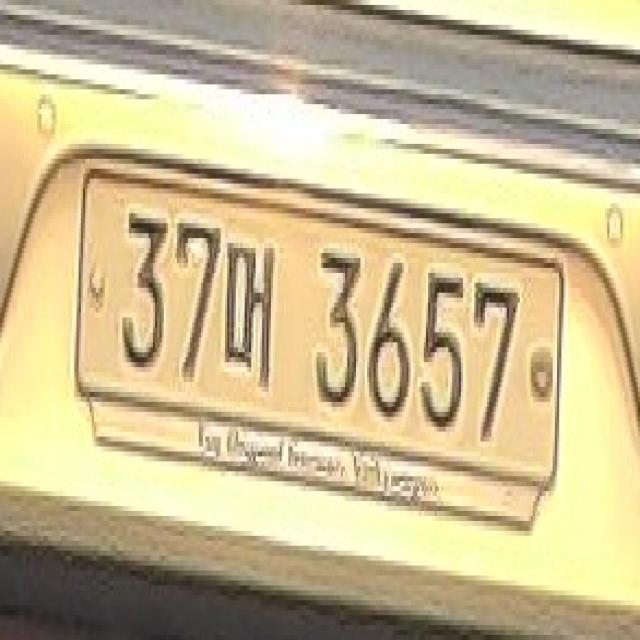3: (314, 253, 362, 412), (127, 204, 170, 362)
5: (417, 263, 463, 432)
6: (367, 253, 411, 417)
7: (474, 273, 520, 446), (177, 213, 221, 377)
license_plate: (72, 159, 566, 496)
meo: (225, 238, 275, 392)
